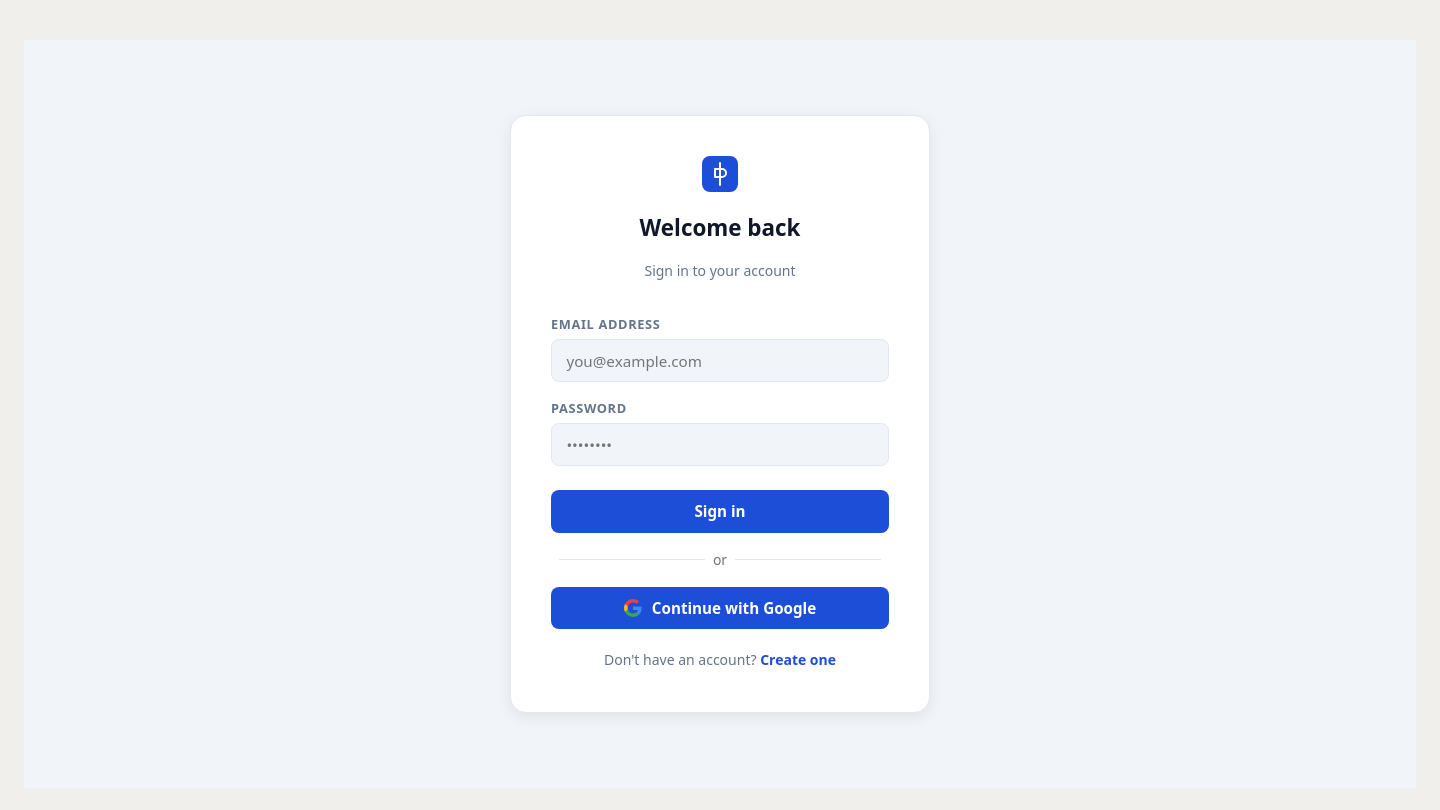
Scenario: Login Page — error handling › shows error message when login fails with invalid credentials
Type "user@test.com" into the field with placeholder "you@example.com" at {"x": 720, "y": 361}, box [551,339,889,382]
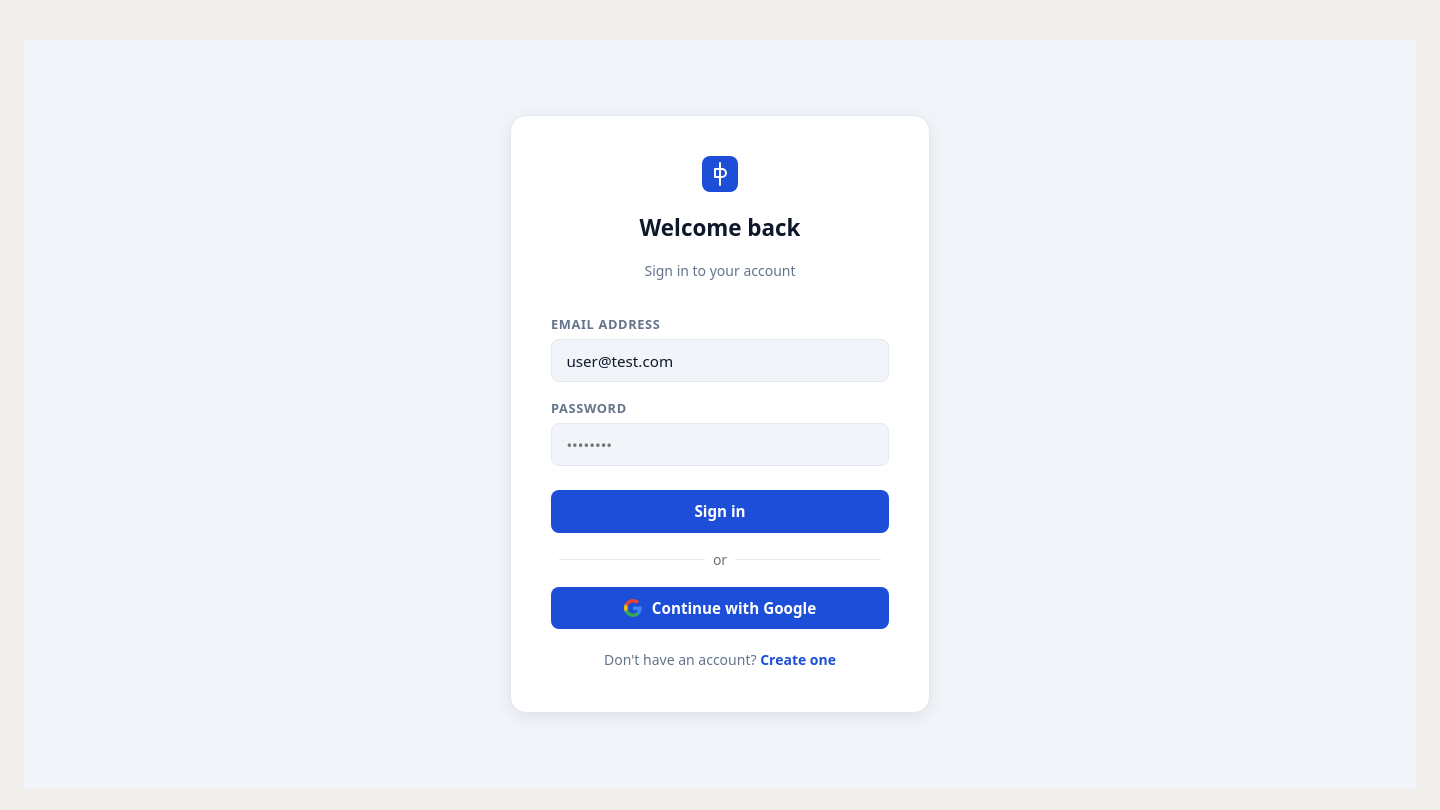
Type "password123" into the password field with placeholder "••••••••" at {"x": 720, "y": 445}, box [551,424,889,466]
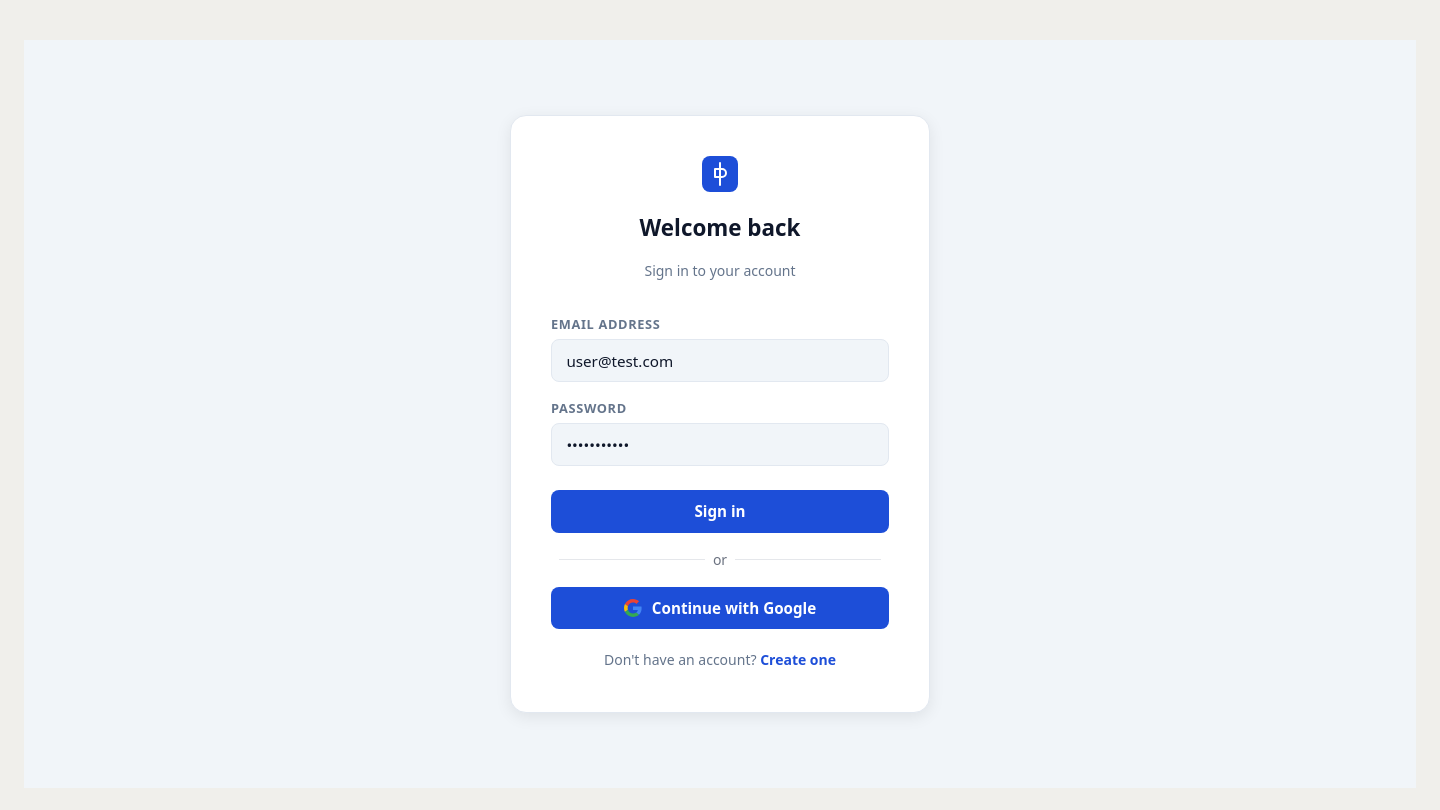
Click the button "Sign in" at {"x": 720, "y": 512}, box [551,490,889,533]
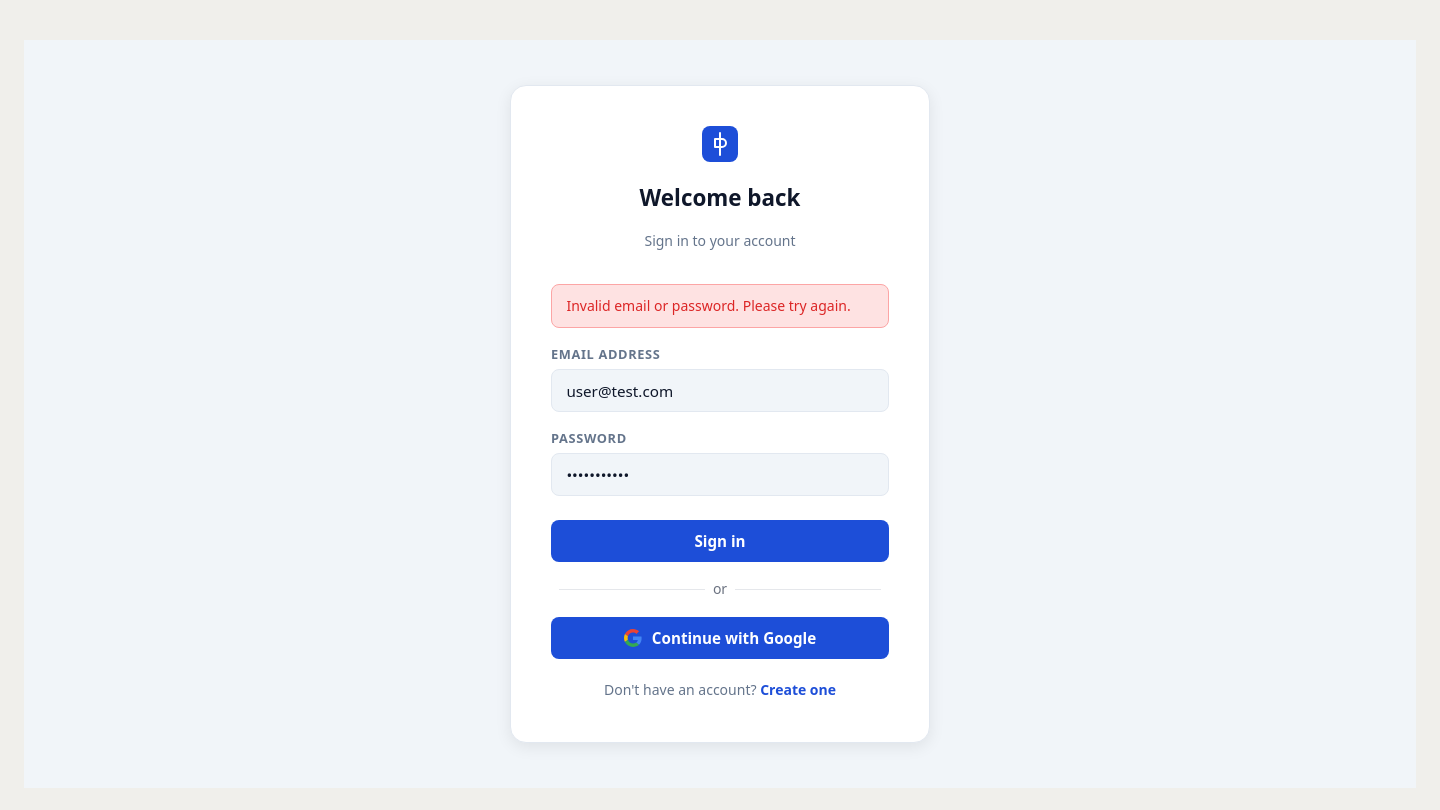
Expected: the text "Invalid email or password. Please try again." is shown, [551,284,889,328]
